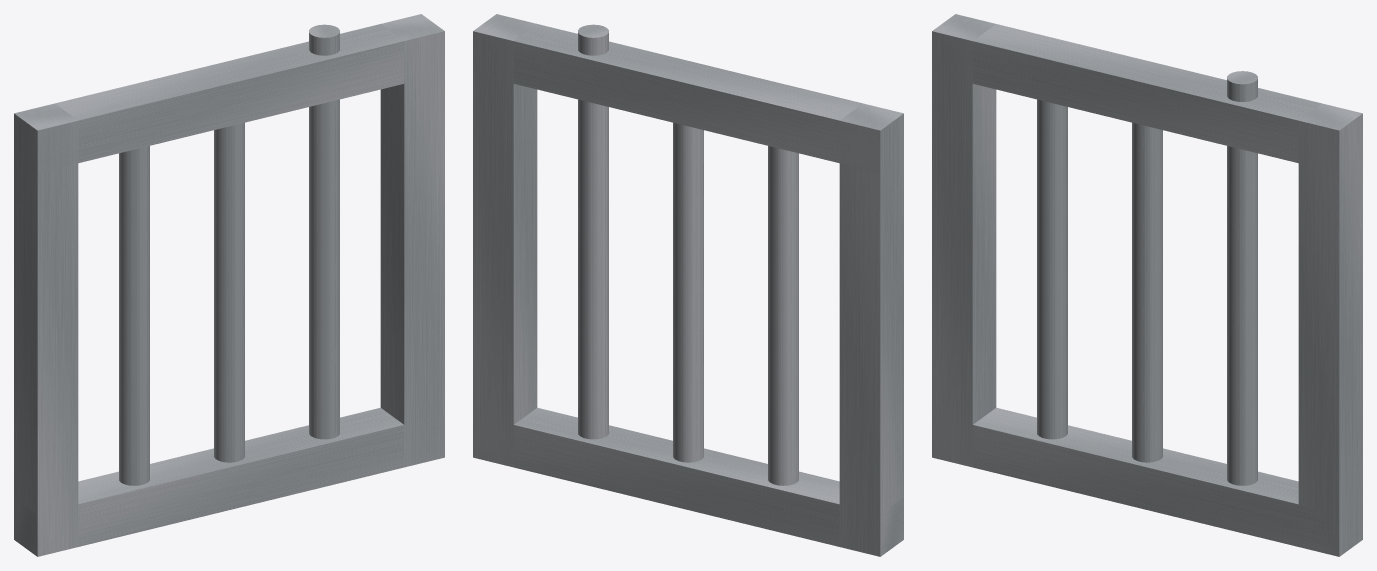
File: Ventana.FBX
3 renders of one model, left to right at view 1: azimuth 30°, elevation 25°; view 2: azimuth 150°, elevation 25°; view 3: azimuth 330°, elevation 25°, orthographic.
Visible parts, largest first — view 1: Box011, Box013, Box012, Box010, Cylinder043, Cylinder044, Cylinder045; view 2: Box011, Box013, Box012, Box010, Cylinder043, Cylinder044, Cylinder045; view 3: Box013, Box011, Box012, Box010, Cylinder043, Cylinder044, Cylinder045.
Boxes of the visible parts, x1=… form: Box011: x1=14, y1=103, x2=78, y2=556; Box013: x1=380, y1=14, x2=444, y2=467; Box012: x1=37, y1=24, x2=404, y2=172; Box010: x1=14, y1=407, x2=444, y2=556; Cylinder043: x1=309, y1=24, x2=339, y2=439; Cylinder044: x1=119, y1=146, x2=149, y2=485; Cylinder045: x1=214, y1=122, x2=244, y2=462; Box011: x1=839, y1=103, x2=903, y2=556; Box013: x1=473, y1=14, x2=537, y2=467; Box012: x1=473, y1=24, x2=880, y2=172; Box010: x1=473, y1=407, x2=903, y2=556; Cylinder043: x1=578, y1=24, x2=608, y2=439; Cylinder044: x1=768, y1=146, x2=798, y2=485; Cylinder045: x1=673, y1=122, x2=703, y2=462; Box013: x1=1298, y1=103, x2=1362, y2=556; Box011: x1=932, y1=14, x2=996, y2=467; Box012: x1=940, y1=24, x2=1339, y2=172; Box010: x1=932, y1=407, x2=1339, y2=556; Cylinder043: x1=1227, y1=71, x2=1257, y2=485; Cylinder044: x1=1037, y1=99, x2=1067, y2=439; Cylinder045: x1=1132, y1=122, x2=1162, y2=462.
Size of the model in its own units: 30 by 31.25 by 3.
Materials: 1 (1 with a texture image).
